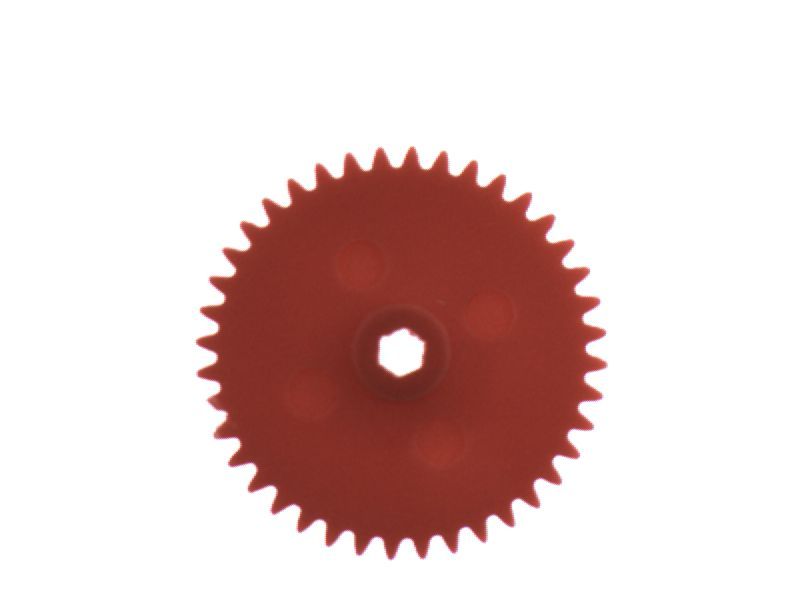defect_break: (184, 385, 232, 420)
